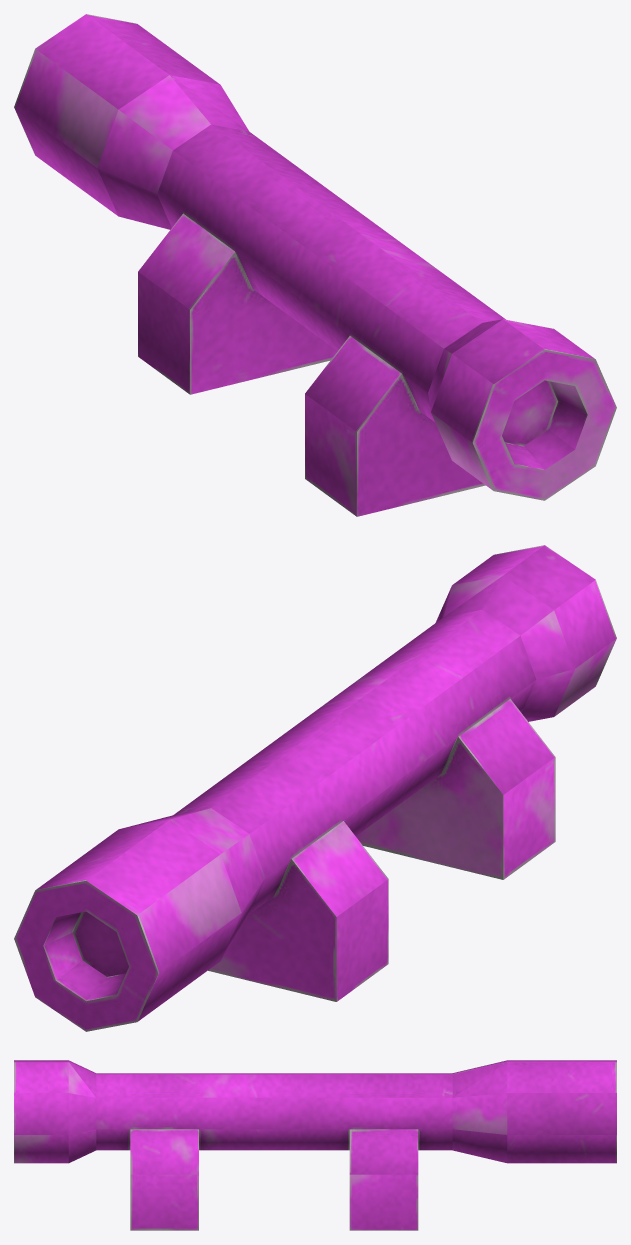
Rendered from scope-large-a.glb.
3 views of the same model, one above another, from view 1: azimuth 30°, elevation 25°; view 2: azimuth 150°, elevation 25°; view 3: azimuth 270°, elevation 25° (orthographic). The views are drawn at different scales.
Parts seen in each view (by area): view 1: scope-large-a; view 2: scope-large-a; view 3: scope-large-a.
Part boxes in pixels (x1,y1,x2,y2): scope-large-a: (14,14,616,516); scope-large-a: (14,545,616,1031); scope-large-a: (14,1060,616,1230).
Bounding box in the file's own units: 0.11 × 0.11 × 0.44.
1 material, 1 textured.
